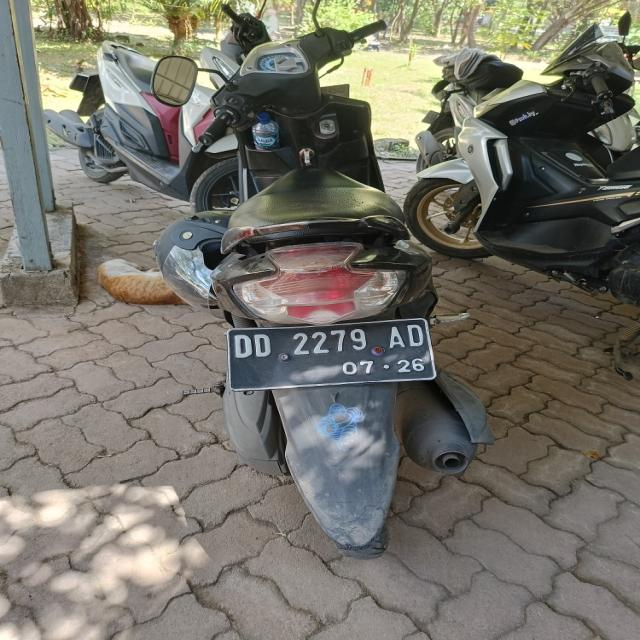plates: (220, 314, 429, 384)
